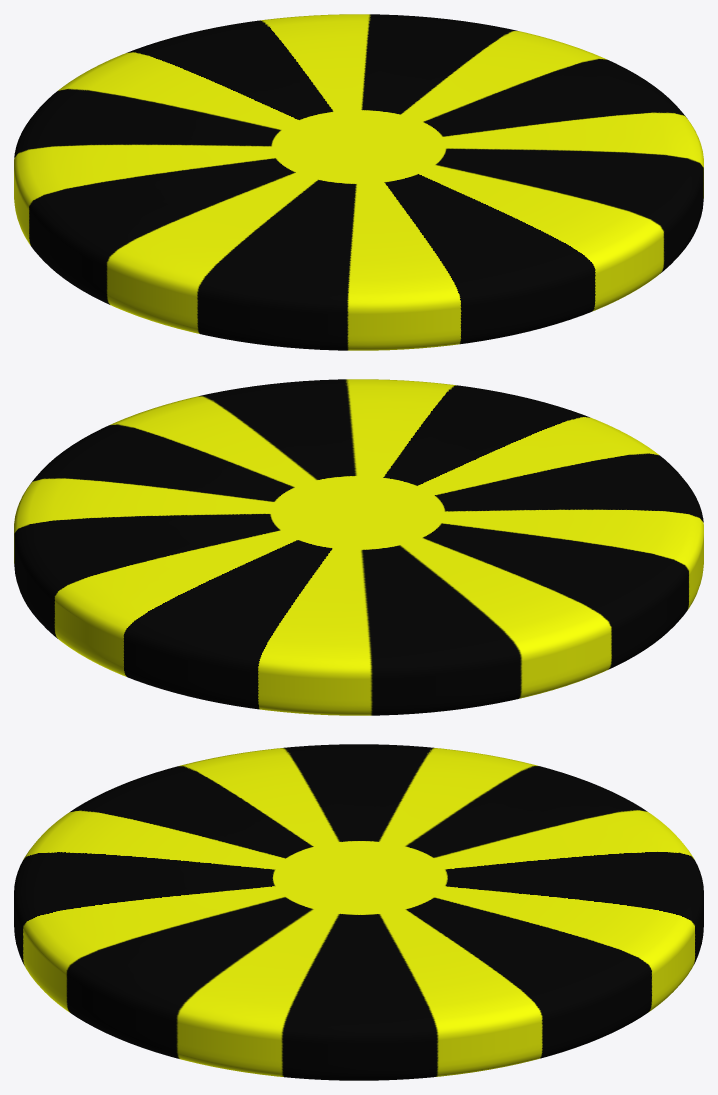
Rendered from TraningBat.fbx.
3 renders of one model, top to bottom at view 1: azimuth 30°, elevation 25°; view 2: azimuth 150°, elevation 25°; view 3: azimuth 270°, elevation 25°, orthographic.
Visible parts, largest first — view 1: TraningBat; view 2: TraningBat; view 3: TraningBat.
Part boxes in pixels (x1=…): TraningBat: x1=14, y1=14, x2=703, y2=350; TraningBat: x1=14, y1=379, x2=703, y2=715; TraningBat: x1=14, y1=744, x2=703, y2=1080.
Bounding box in the file's own units: 1.3 × 0.13 × 1.3.
